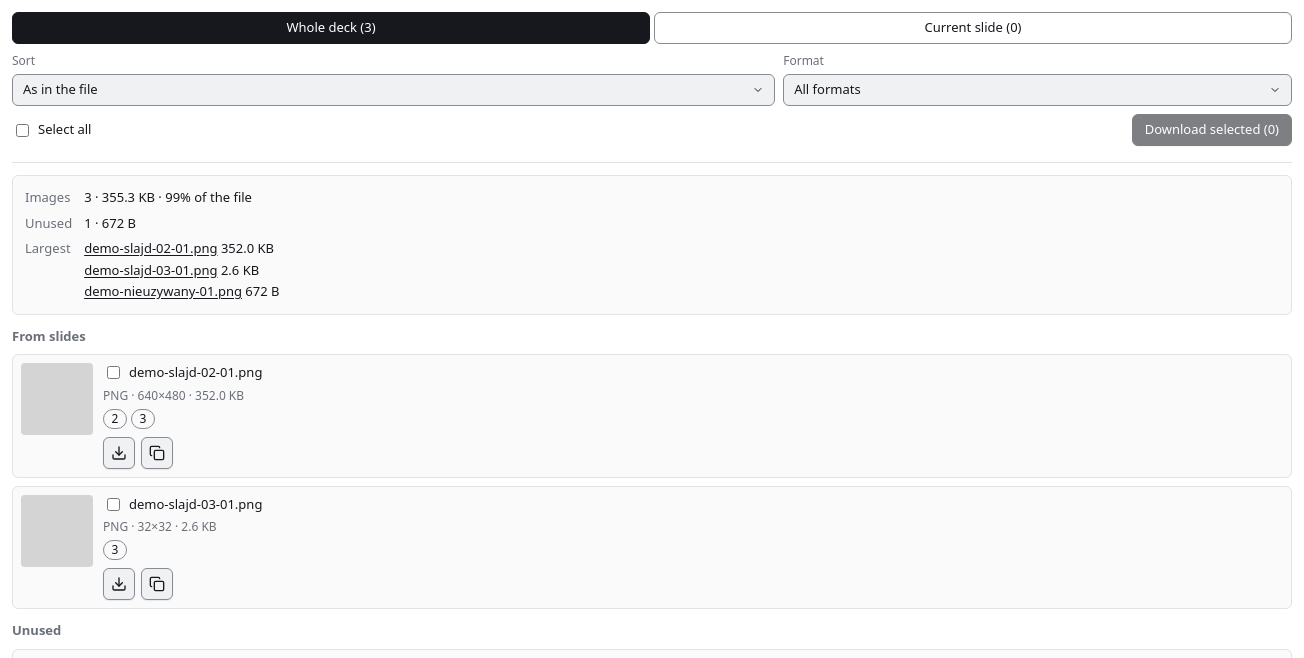
ImagePanel summary › hides the summary in the current-slide scope
Click the button "Current slide (0)" at [973, 28], box [654, 12, 1292, 44]
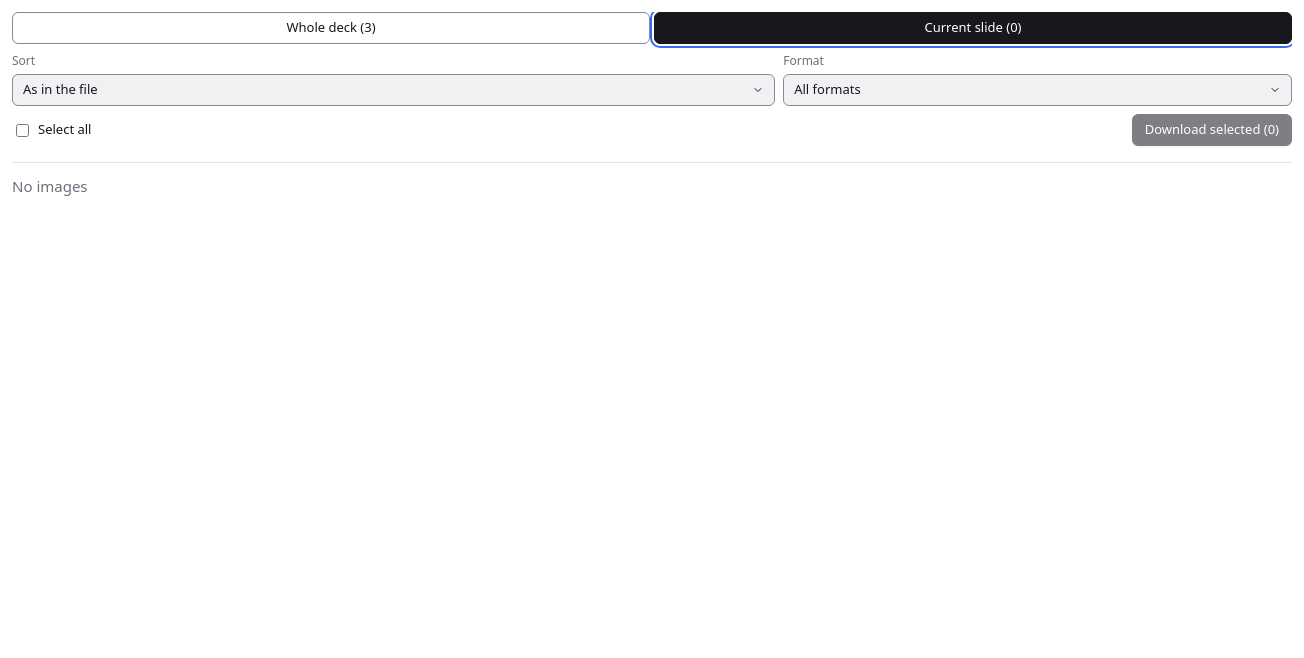
Check: the element "Media summary" is gone
